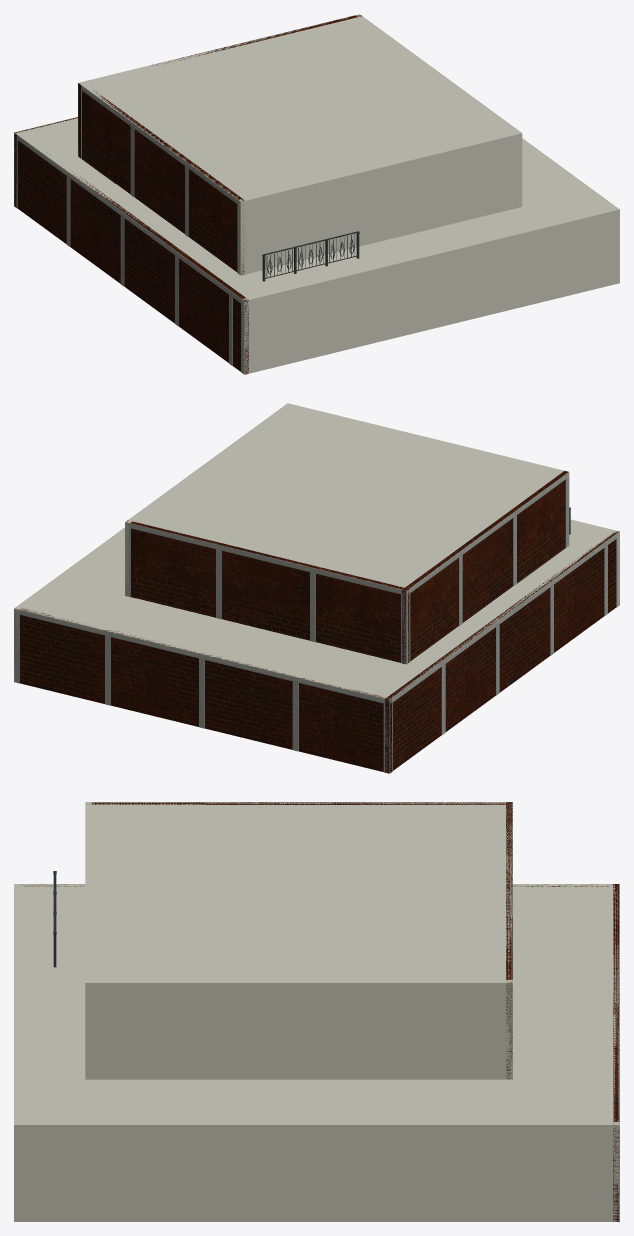
Rendered from building.glb.
3 views of the same model, one above another, from view 1: azimuth 30°, elevation 25°; view 2: azimuth 150°, elevation 25°; view 3: azimuth 270°, elevation 25° (orthographic). The views are drawn at different scales.
Visible parts, largest first — view 1: roof/upper:0/roof_slab#0001, lower:0/edge0/z0/lower:0/edge0/z0/wall_0_0, upper:0/edge0/z3/upper:0/edge0/z3/wall_0_0, roof/lower:0/roof_slab#0001, lower:0/edge3/z0/lower:0/edge3/z0/wall_0_0, upper:0/edge3/z3/upper:0/edge3/z3/wall_0_0, lower:0/edge3/z0/lower:0/edge3/z0/beam_0_0, upper:0/edge1/z3/upper:0/edge1/z3/wall_0_0, upper:0/edge3/z3/upper:0/edge3/z3/beam_0_0, lower:0/edge1/z0/lower:0/edge1/z0/wall_0_0, upper:0/edge2/z3/upper:0/edge2/z3/wall_0_0; view 2: roof/upper:0/roof_slab#0001, lower:0/edge2/z0/lower:0/edge2/z0/wall_0_0, roof/lower:0/roof_slab#0001, upper:0/edge2/z3/upper:0/edge2/z3/wall_0_0, lower:0/edge3/z0/lower:0/edge3/z0/wall_0_0, upper:0/edge3/z3/upper:0/edge3/z3/wall_0_0, lower:0/edge2/z0/lower:0/edge2/z0/beam_0_0, upper:0/edge2/z3/upper:0/edge2/z3/beam_0_0, lower:0/edge3/z0/lower:0/edge3/z0/beam_0_0, upper:0/edge1/z3/upper:0/edge1/z3/wall_0_0, upper:0/edge3/z3/upper:0/edge3/z3/beam_0_0, upper:0/edge0/z3/upper:0/edge0/z3/wall_0_0 (+1 smaller); view 3: roof/upper:0/roof_slab#0001, roof/lower:0/roof_slab#0001, lower:0/edge1/z0/lower:0/edge1/z0/wall_0_0, upper:0/edge1/z3/upper:0/edge1/z3/wall_0_0, lower:0/edge0/z0/lower:0/edge0/z0/wall_0_0, upper:0/edge0/z3/upper:0/edge0/z3/wall_0_0, lower:0/edge2/z0/lower:0/edge2/z0/wall_0_0, upper:0/edge2/z3/upper:0/edge2/z3/wall_0_0, upper:0/edge3/z3/upper:0/edge3/z3/wall_0_0.
Boxes of the visible parts, bbox=[...] form: roof/upper:0/roof_slab#0001: bbox=[78, 14, 520, 204]; lower:0/edge0/z0/lower:0/edge0/z0/wall_0_0: bbox=[241, 209, 619, 374]; upper:0/edge0/z3/upper:0/edge0/z3/wall_0_0: bbox=[238, 132, 522, 275]; roof/lower:0/roof_slab#0001: bbox=[14, 117, 618, 303]; lower:0/edge3/z0/lower:0/edge3/z0/wall_0_0: bbox=[17, 140, 248, 374]; upper:0/edge3/z3/upper:0/edge3/z3/wall_0_0: bbox=[82, 90, 244, 274]; lower:0/edge3/z0/lower:0/edge3/z0/beam_0_0: bbox=[14, 133, 243, 303]; upper:0/edge1/z3/upper:0/edge1/z3/wall_0_0: bbox=[355, 14, 522, 207]; upper:0/edge3/z3/upper:0/edge3/z3/beam_0_0: bbox=[81, 85, 240, 205]; lower:0/edge1/z0/lower:0/edge1/z0/wall_0_0: bbox=[522, 138, 619, 284]; upper:0/edge2/z3/upper:0/edge2/z3/wall_0_0: bbox=[78, 15, 361, 158]; roof/upper:0/roof_slab#0001: bbox=[127, 404, 568, 592]; lower:0/edge2/z0/lower:0/edge2/z0/wall_0_0: bbox=[20, 608, 392, 772]; roof/lower:0/roof_slab#0001: bbox=[14, 520, 619, 703]; upper:0/edge2/z3/upper:0/edge2/z3/wall_0_0: bbox=[127, 520, 409, 662]; lower:0/edge3/z0/lower:0/edge3/z0/wall_0_0: bbox=[385, 531, 619, 773]; upper:0/edge3/z3/upper:0/edge3/z3/wall_0_0: bbox=[402, 471, 568, 663]; lower:0/edge2/z0/lower:0/edge2/z0/beam_0_0: bbox=[14, 609, 389, 703]; upper:0/edge2/z3/upper:0/edge2/z3/beam_0_0: bbox=[125, 522, 406, 595]; lower:0/edge3/z0/lower:0/edge3/z0/beam_0_0: bbox=[389, 533, 619, 704]; upper:0/edge1/z3/upper:0/edge1/z3/wall_0_0: bbox=[125, 405, 289, 596]; upper:0/edge3/z3/upper:0/edge3/z3/beam_0_0: bbox=[406, 472, 568, 595]; upper:0/edge0/z3/upper:0/edge0/z3/wall_0_0: bbox=[285, 403, 569, 477]; roof/upper:0/roof_slab#0001: bbox=[85, 802, 512, 987]; roof/lower:0/roof_slab#0001: bbox=[14, 884, 619, 1129]; lower:0/edge1/z0/lower:0/edge1/z0/wall_0_0: bbox=[14, 1122, 619, 1221]; upper:0/edge1/z3/upper:0/edge1/z3/wall_0_0: bbox=[85, 980, 512, 1079]; lower:0/edge0/z0/lower:0/edge0/z0/wall_0_0: bbox=[14, 884, 20, 1221]; upper:0/edge0/z3/upper:0/edge0/z3/wall_0_0: bbox=[85, 802, 92, 1079]; lower:0/edge2/z0/lower:0/edge2/z0/wall_0_0: bbox=[613, 884, 619, 1221]; upper:0/edge2/z3/upper:0/edge2/z3/wall_0_0: bbox=[506, 802, 512, 1078]; upper:0/edge3/z3/upper:0/edge3/z3/wall_0_0: bbox=[91, 802, 510, 804].
Bounding box in the file's own units: 16 × 6 × 17.
4 materials, 1 textured.
